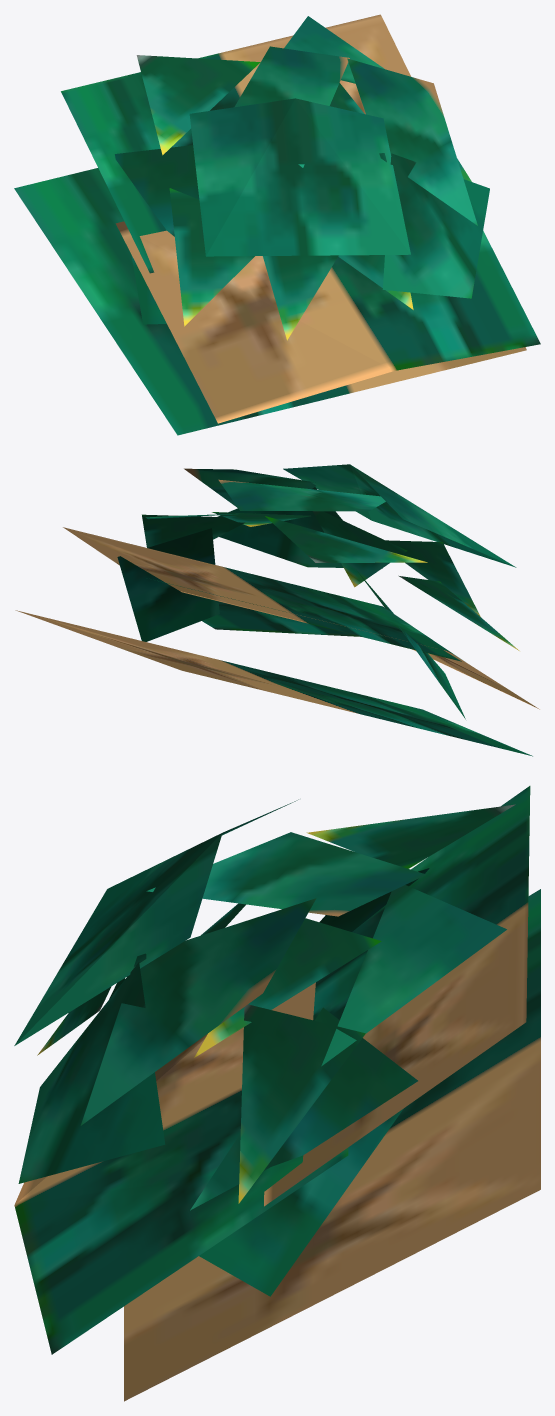
File: fg_bushC_2_bl.dae
3 renders of one model, top to bottom at view 1: azimuth 30°, elevation 25°; view 2: azimuth 150°, elevation 25°; view 3: azimuth 270°, elevation 25°, orthographic. The views are drawn at different scales.
Visible parts, largest first — view 1: fg_bushC_2_bl; view 2: fg_bushC_2_bl; view 3: fg_bushC_2_bl.
Boxes of the visible parts, x1,y1,x2,y2 form: fg_bushC_2_bl: [14, 14, 540, 435]; fg_bushC_2_bl: [15, 464, 539, 756]; fg_bushC_2_bl: [14, 786, 540, 1401].
Size of the model in its own units: 47.83 by 31.21 by 35.4.
Materials: 1 (1 with a texture image).
